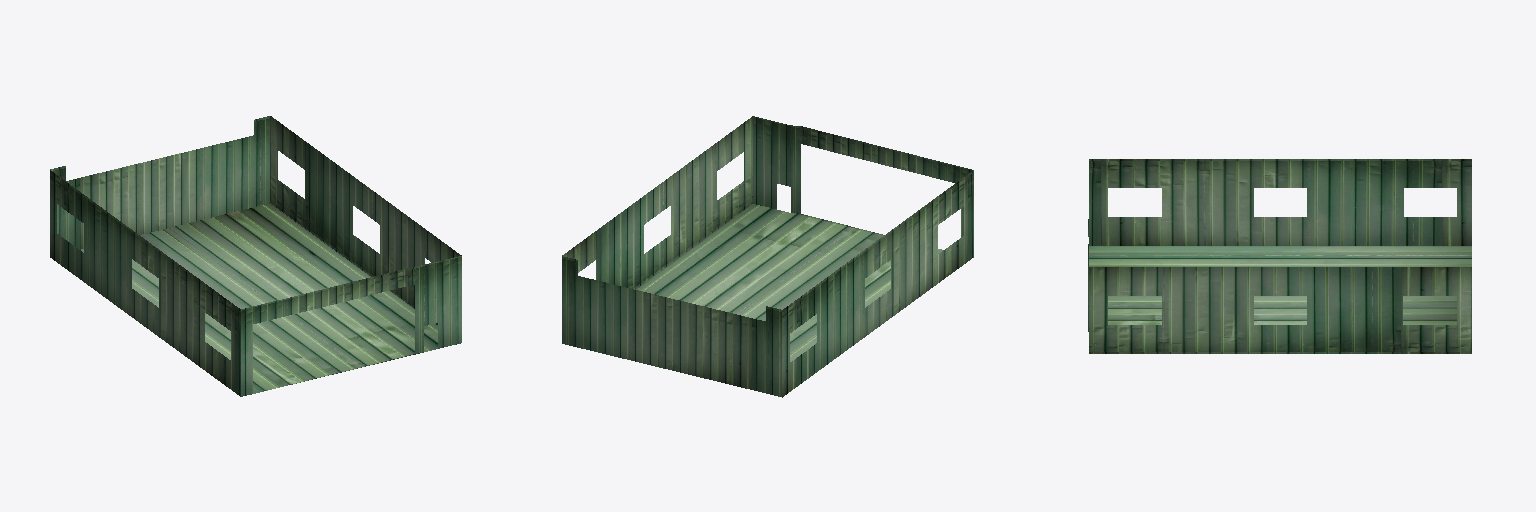
3 views of the same model, side by side, from view 1: azimuth 30°, elevation 25°; view 2: azimuth 150°, elevation 25°; view 3: azimuth 270°, elevation 25° (orthographic).
Visible parts, largest first — view 1: base_Cube.001; view 2: base_Cube.001; view 3: base_Cube.001.
Part boxes in pixels (x1,y1,x2,y2): base_Cube.001: (50, 116, 461, 396); base_Cube.001: (562, 116, 973, 397); base_Cube.001: (1088, 159, 1471, 353).
Size of the model in its own units: 118 by 45.44 by 178.
1 materials, 1 textured.